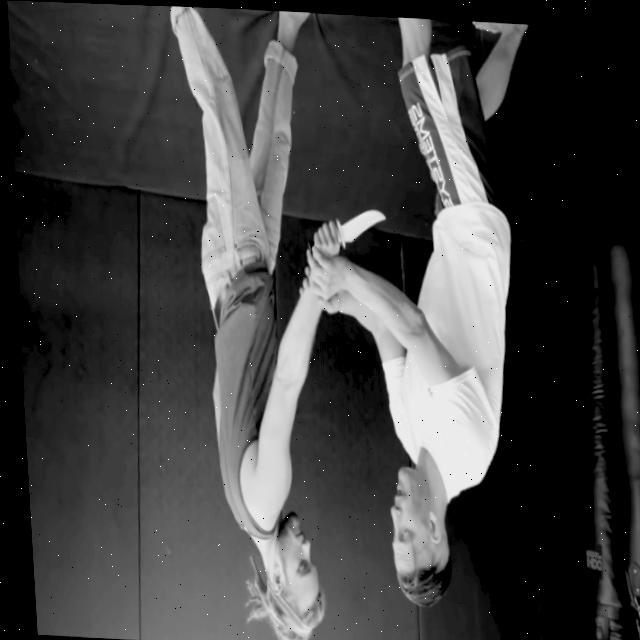knife: (332, 194, 388, 248)
